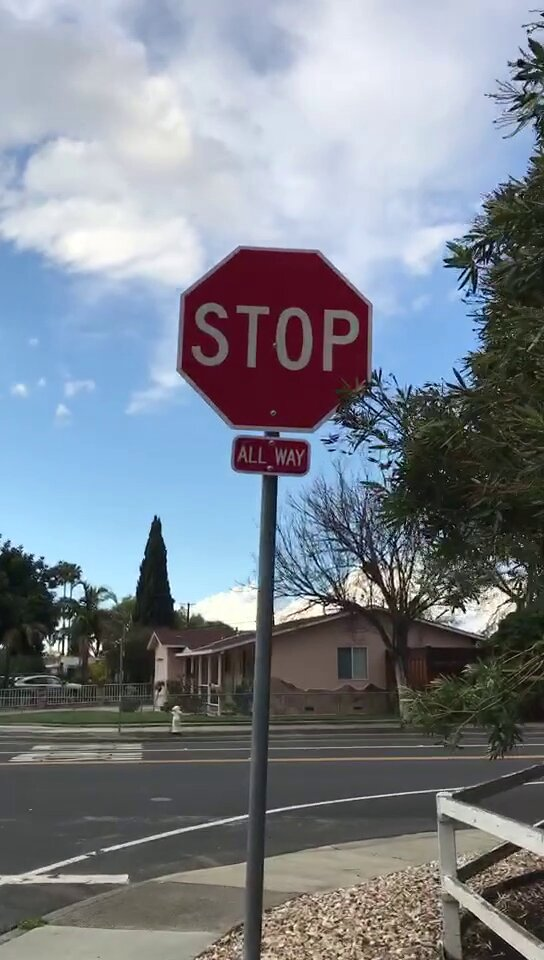stop_sign: (177, 246, 372, 430)
